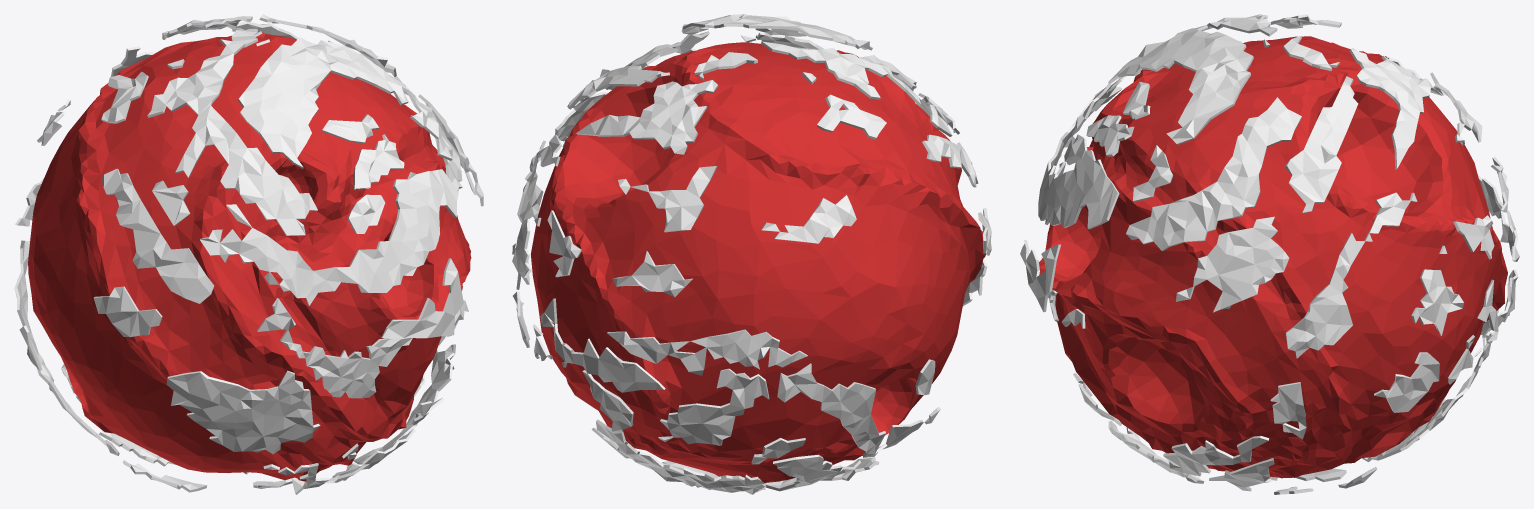
Rendered from Planet_22.glb.
3 views of the same model, side by side, from view 1: azimuth 30°, elevation 25°; view 2: azimuth 150°, elevation 25°; view 3: azimuth 270°, elevation 25° (orthographic).
Visible parts, largest first — view 1: Planet_22; view 2: Planet_22; view 3: Planet_22.
Boxes of the visible parts, bbox=[...] form: Planet_22: bbox=[14, 14, 483, 494]; Planet_22: bbox=[512, 14, 991, 494]; Planet_22: bbox=[1020, 14, 1519, 494].
Size of the model in its own units: 21.56 by 21.7 by 22.68.
1 material, 1 textured.
